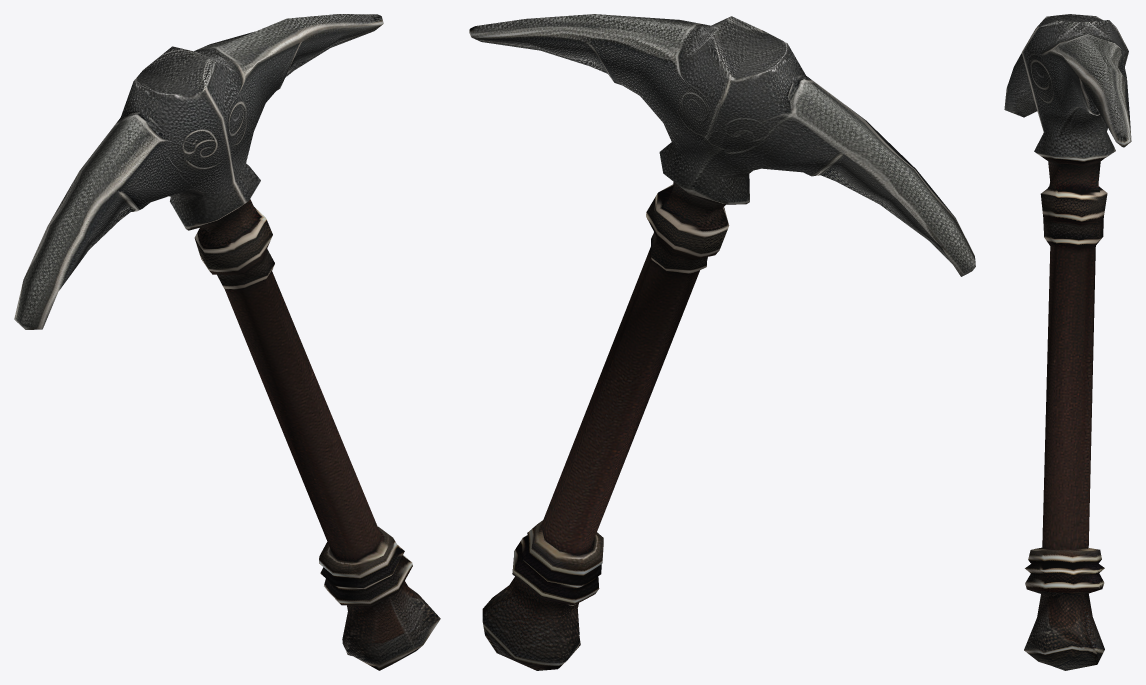
The model's file is mining_pick.glb.
3 views of the same model, side by side, from view 1: azimuth 30°, elevation 25°; view 2: azimuth 150°, elevation 25°; view 3: azimuth 270°, elevation 25° (orthographic). The views are drawn at different scales.
Visible parts, largest first — view 1: tripo_node_fe2ba359-e9e8-45b8-8ae9-b9da565f4a91; view 2: tripo_node_fe2ba359-e9e8-45b8-8ae9-b9da565f4a91; view 3: tripo_node_fe2ba359-e9e8-45b8-8ae9-b9da565f4a91.
Boxes of the visible parts, <box> form: tripo_node_fe2ba359-e9e8-45b8-8ae9-b9da565f4a91: <box>14,14,440,670</box>; tripo_node_fe2ba359-e9e8-45b8-8ae9-b9da565f4a91: <box>469,14,975,670</box>; tripo_node_fe2ba359-e9e8-45b8-8ae9-b9da565f4a91: <box>1004,14,1131,670</box>.
Size of the model in its own units: 0.6987 by 0.9995 by 0.2017.
1 material, 1 textured.
